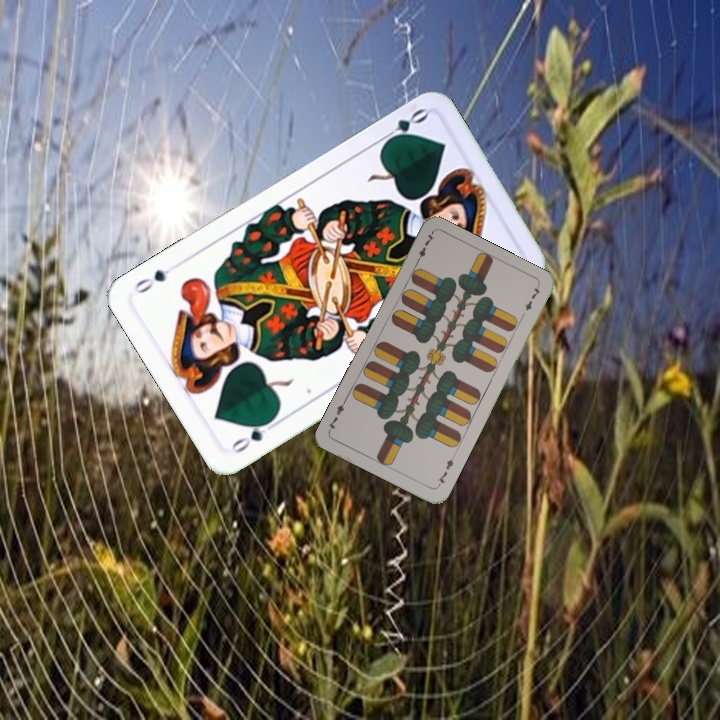E7: (412, 229, 437, 267), (433, 452, 457, 489)
GO: (376, 104, 430, 148), (226, 414, 280, 456)
